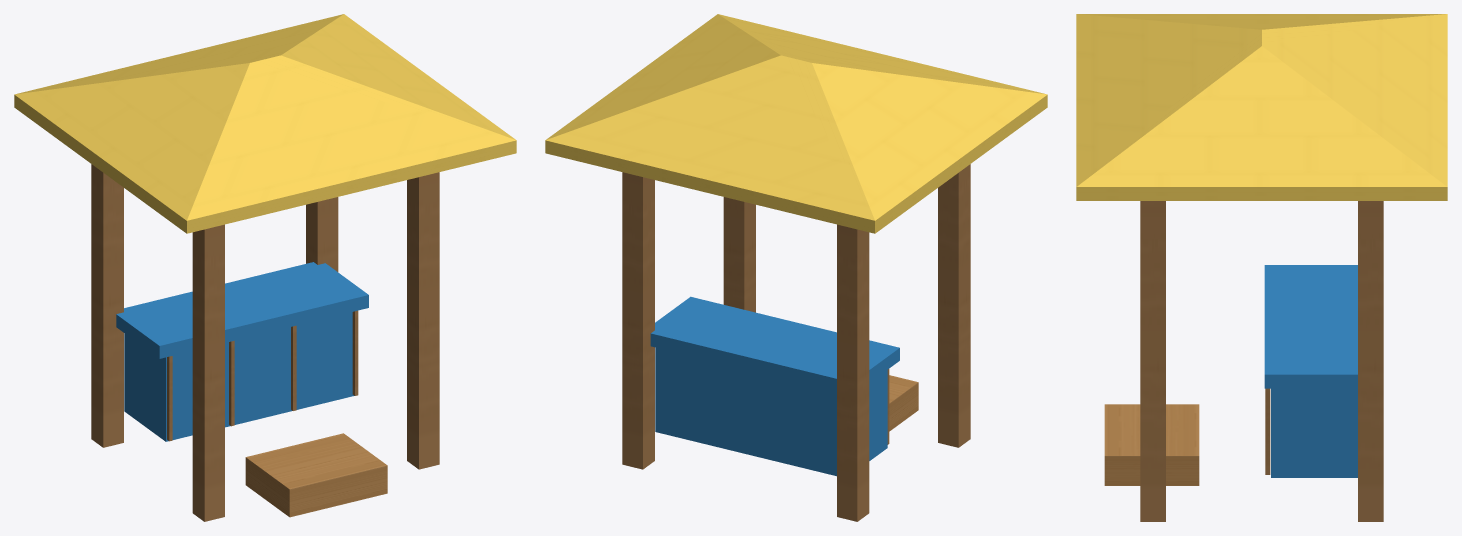
File: kiosk.glb
3 views of the same model, side by side, from view 1: azimuth 30°, elevation 25°; view 2: azimuth 150°, elevation 25°; view 3: azimuth 270°, elevation 25° (orthographic). The views are drawn at different scales.
Visible parts, largest first — view 1: beach_kiosk; view 2: beach_kiosk; view 3: beach_kiosk.
Boxes of the visible parts, x1=… form: beach_kiosk: x1=14, y1=14, x2=516, y2=521; beach_kiosk: x1=545, y1=14, x2=1047, y2=521; beach_kiosk: x1=1076, y1=14, x2=1447, y2=521.
Size of the model in its own units: 3.2 by 3.64 by 2.9.
Materials: 1 (1 with a texture image).
